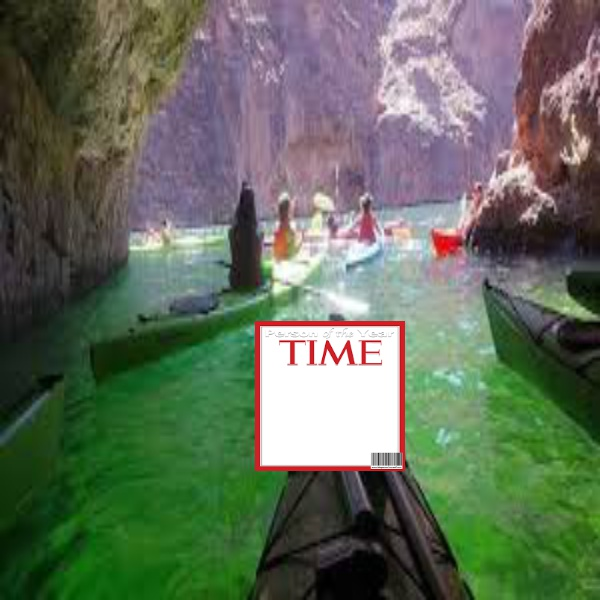time_cover: (245, 305, 413, 477)
